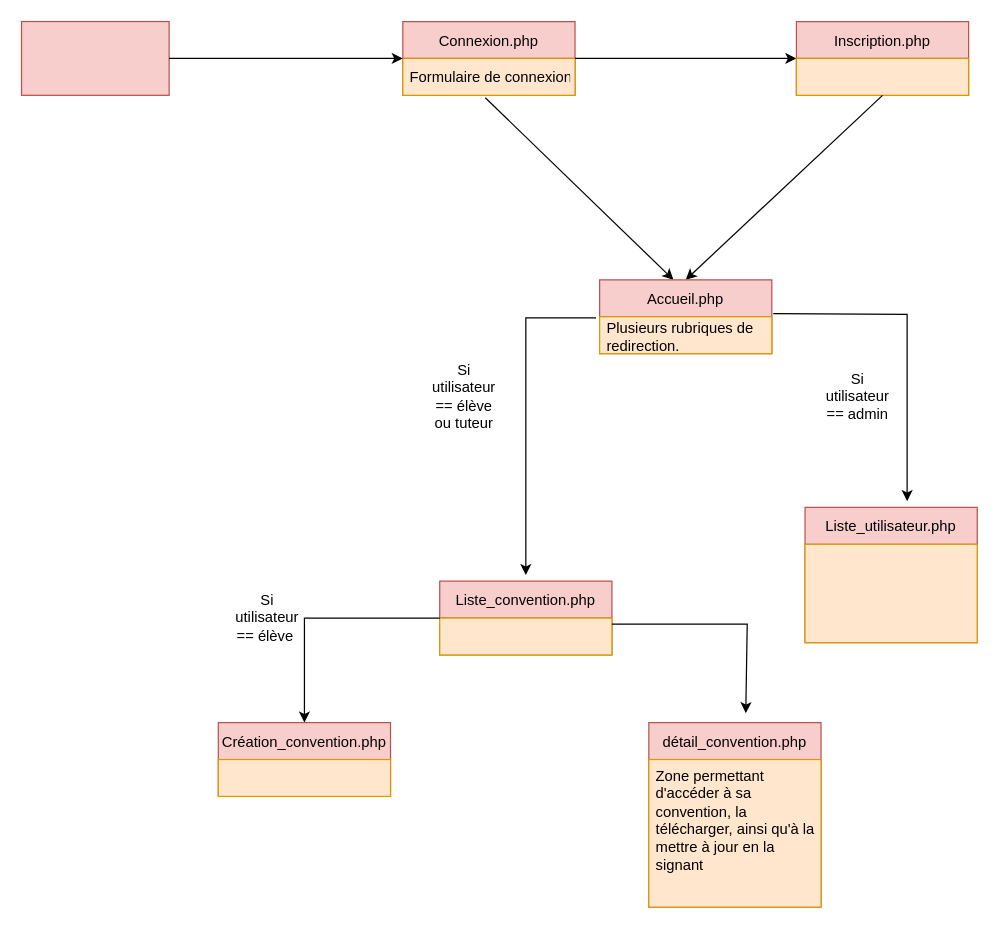
Image size: 999x932. Some labels were removed from this diagram. Here are the shapes that lost their labels. From the top down, the centre of each, then its label:
At (x=94, y=57): "Utilisateur".
At (x=882, y=76): "Formulaire d'inscription".
At (x=890, y=593): "Liste des utilisateurs ainsi que modification de leurs statuts.".
At (x=525, y=636): "Liste des conventions affiliés".
At (x=304, y=777): "Page de création d'une convention".
